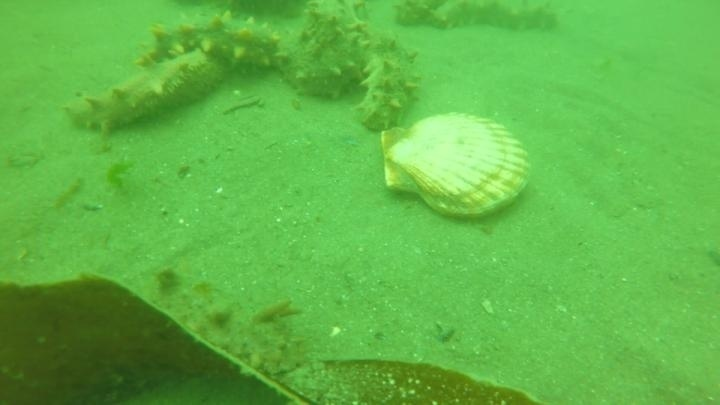holothurian: (135, 259, 315, 383), (62, 48, 231, 139), (271, 1, 371, 104), (135, 12, 285, 77), (353, 30, 424, 136), (430, 1, 560, 37)
scallop: (378, 108, 535, 226)
